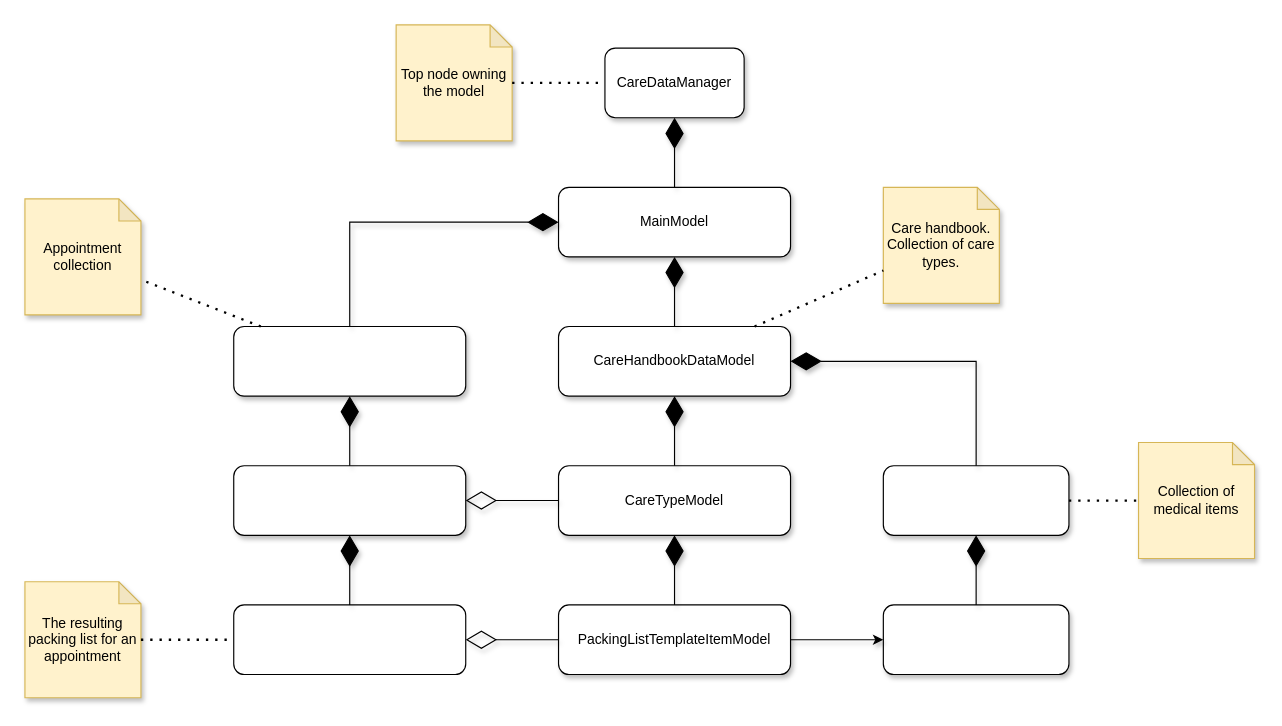
Some shapes in this 1282 by 726 pixel diagram are drawn without their labels. The shapes that lost their labels are listed below. From the top down, each one's centre as x and y in pixels, then its label:
At point (350, 362): "AppointmentCollectionModel".
At point (350, 501): "CalendarAppointmentModel".
At point (977, 501): "MedicalItemCatalogModel".
At point (349, 639): "CareVisitPackingListMode".
At point (977, 641): "MedicalItemModel".
